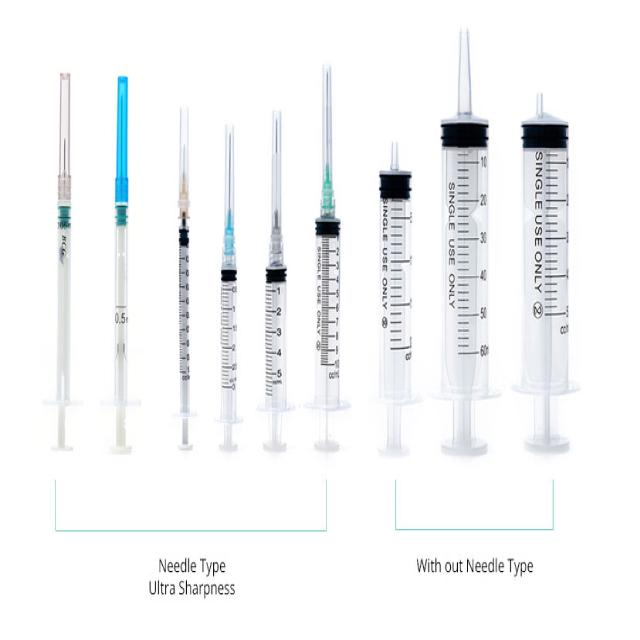syringe: (503, 62, 587, 460), (31, 52, 94, 460), (438, 25, 492, 455), (305, 50, 357, 465), (255, 88, 301, 469), (102, 59, 144, 466), (377, 139, 416, 455), (214, 121, 242, 450), (173, 102, 194, 449)
